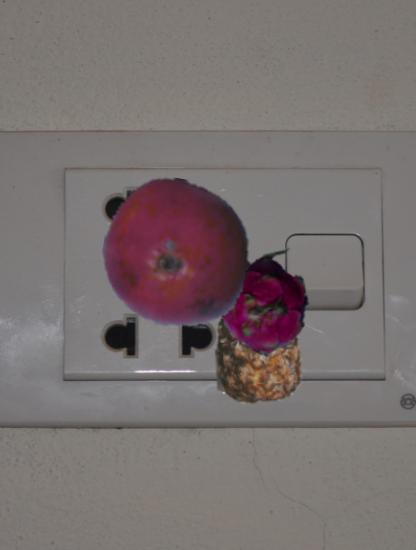Pineapple: (201, 291, 315, 405)
Pitahaya: (208, 254, 313, 359)
Pomegranate: (103, 179, 251, 327)
